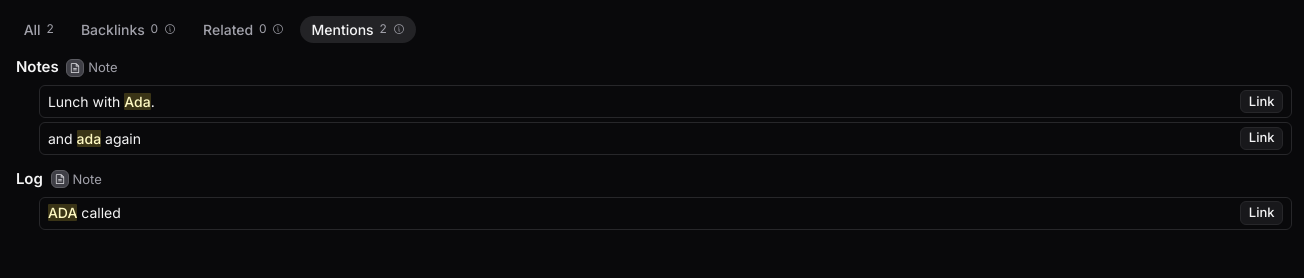
Test: MentionsTab › link a mention sends version and reloads
Expected: the text "Notes" is shown, [16,56,59,79]
Click the 2nd button "Link" at (1262, 138), box [1240,126,1283,150]
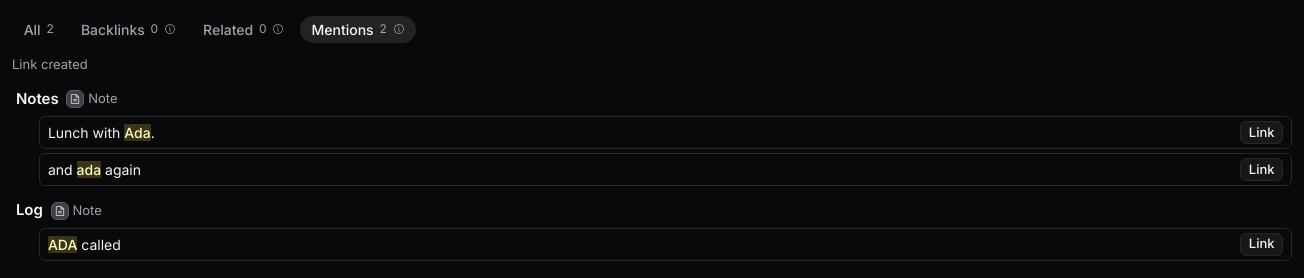
Now the message reads "Link created", box [12,56,88,72]
